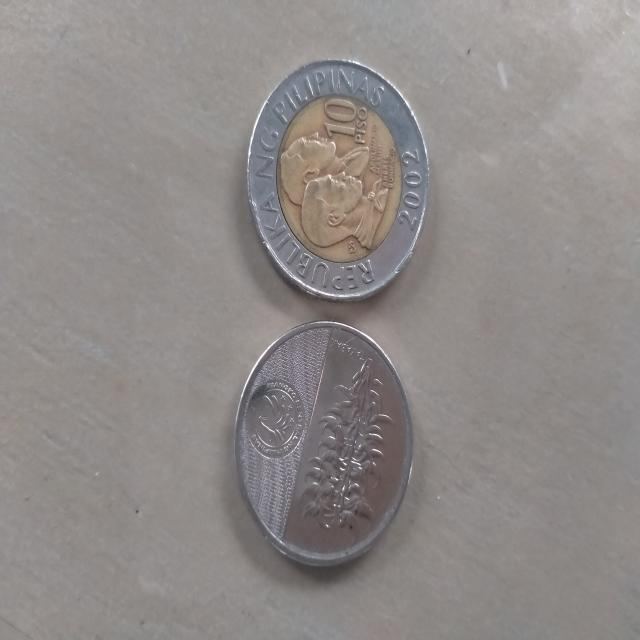10_Old_Front: (313, 88, 375, 154)
5_New_Back: (302, 337, 396, 549)
